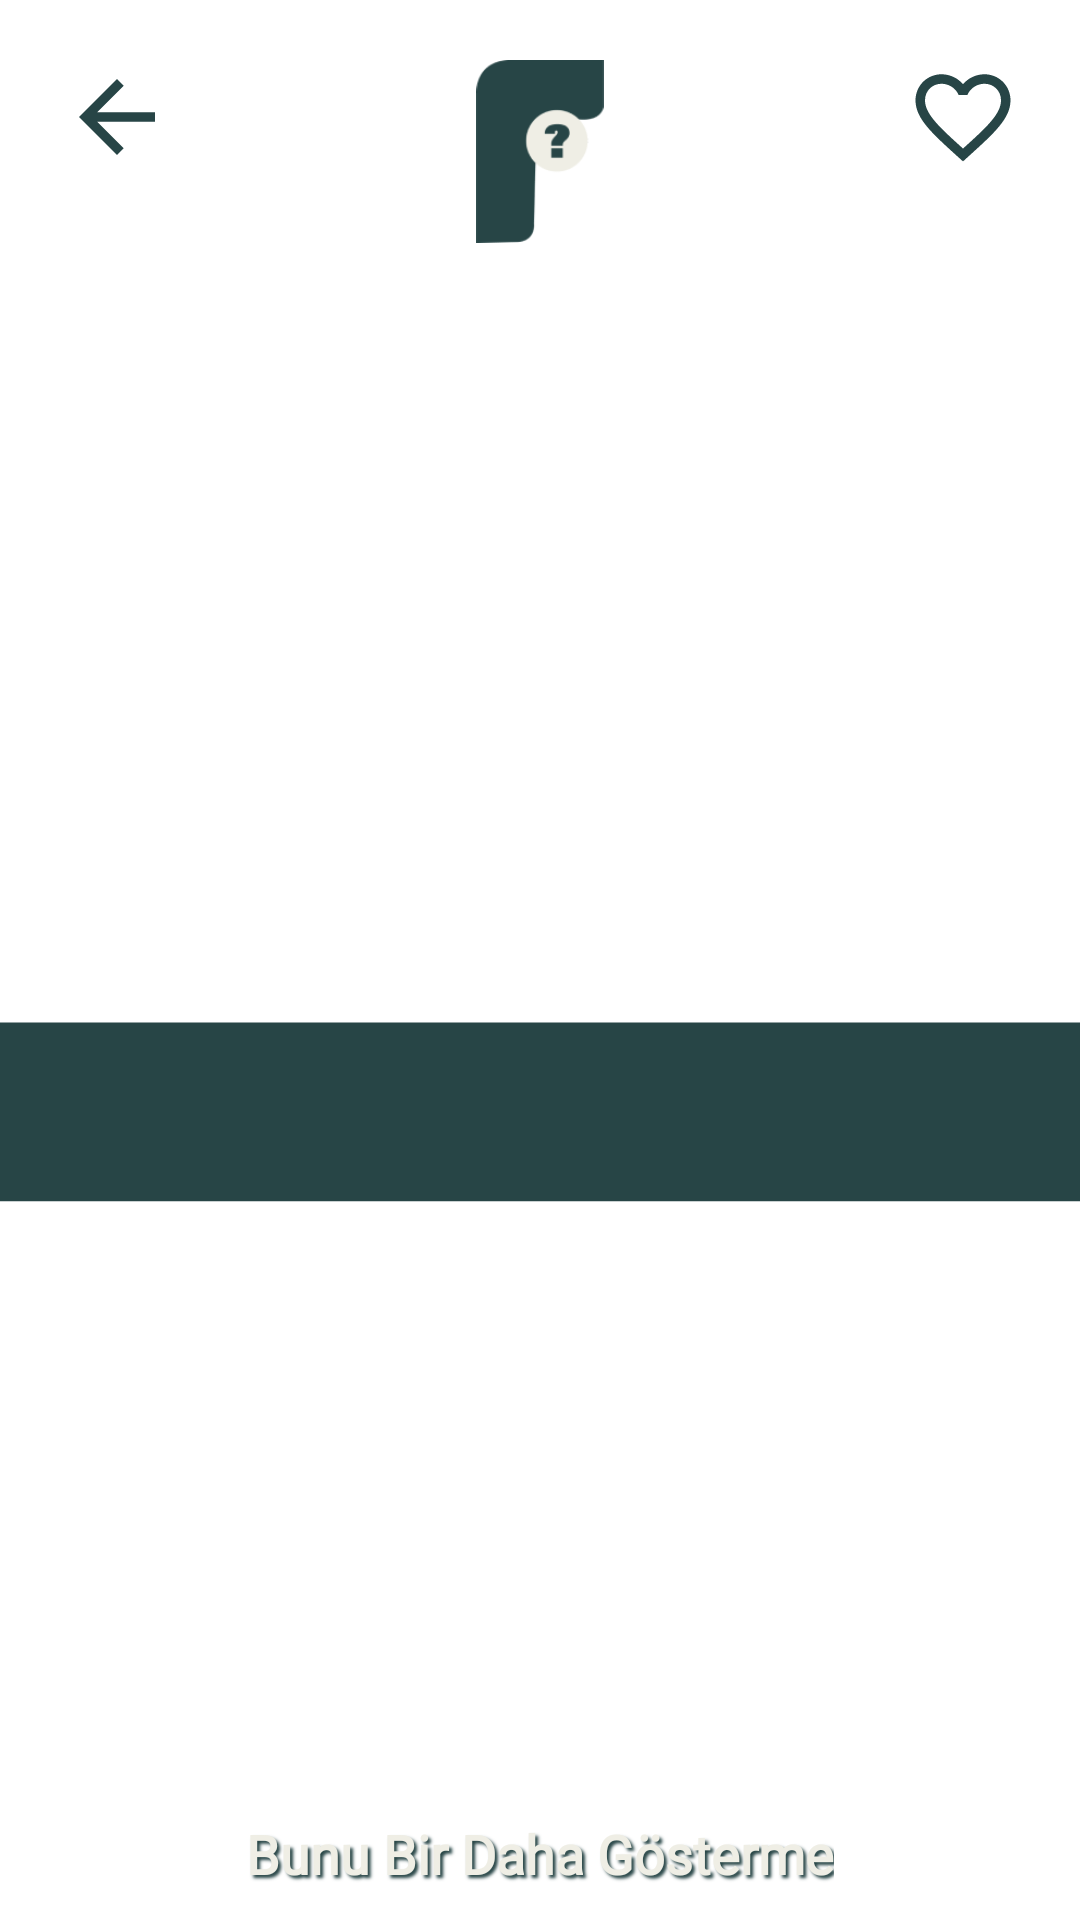

Icons on this 1080x1920 Android screen, each with the point to tap as point (x, y):
favorite border: point (963, 117)
